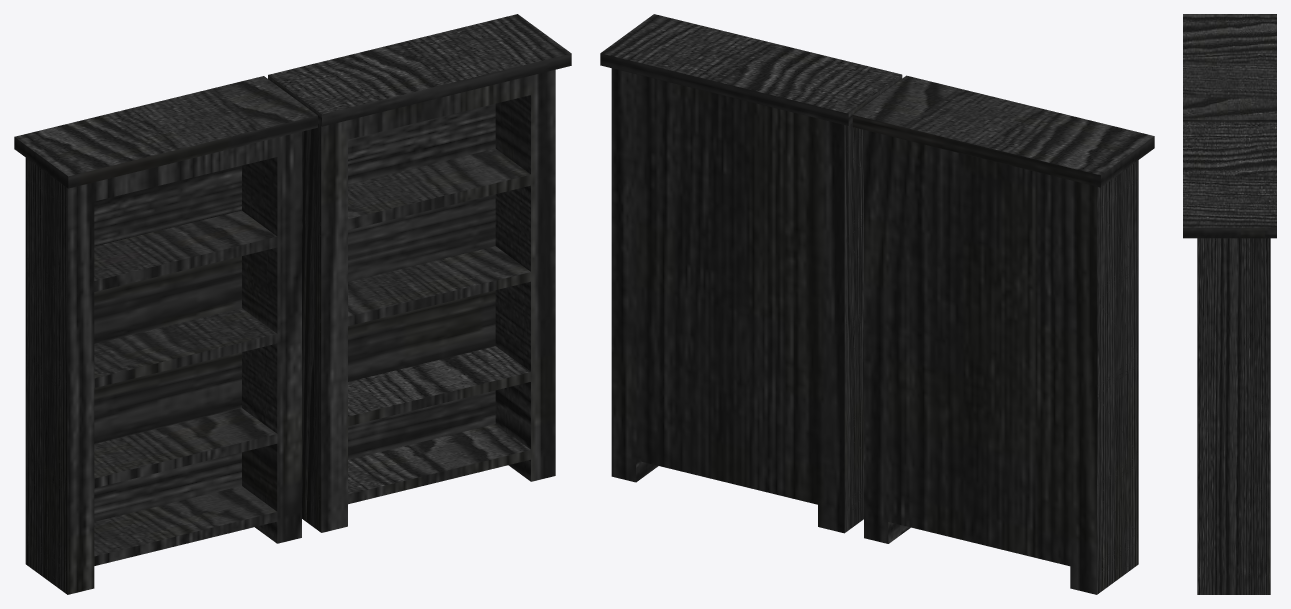
The model's file is BrosRoom_Bookshelf.fbx.
3 renders of one model, left to right at view 1: azimuth 30°, elevation 25°; view 2: azimuth 150°, elevation 25°; view 3: azimuth 270°, elevation 25°, orthographic. The views are drawn at different scales.
Parts seen in each view (by area): view 1: Bookshelf.001; view 2: Bookshelf.001; view 3: Bookshelf.001.
Part boxes in pixels (x1,y1,x2,y2): Bookshelf.001: (14,14,571,594); Bookshelf.001: (600,14,1154,594); Bookshelf.001: (1183,14,1276,594).
Bounding box in the file's own units: 247 × 200 × 45.88.
Materials: 1 (1 with a texture image).
